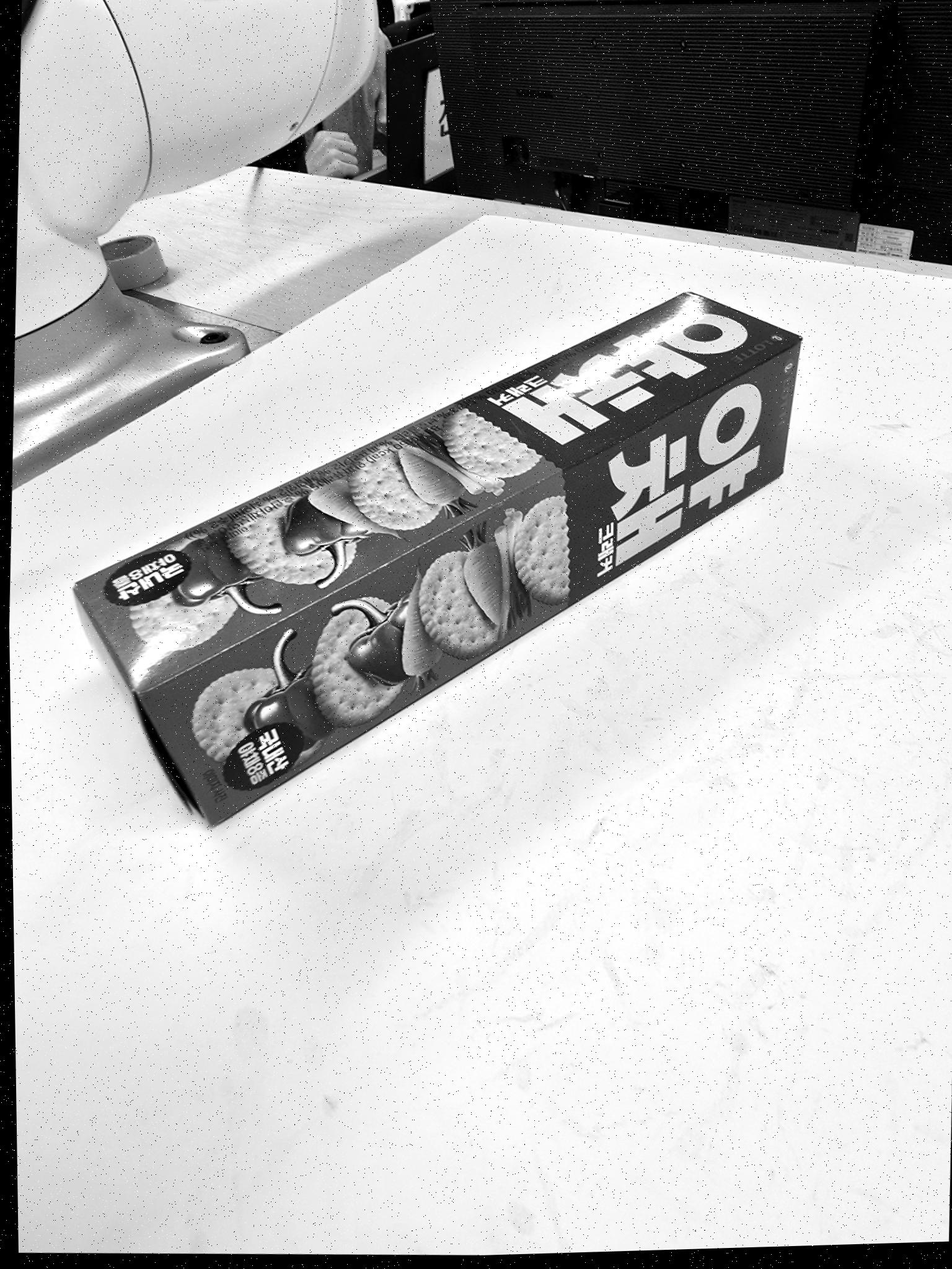cracker_vege: (75, 293, 801, 824)
